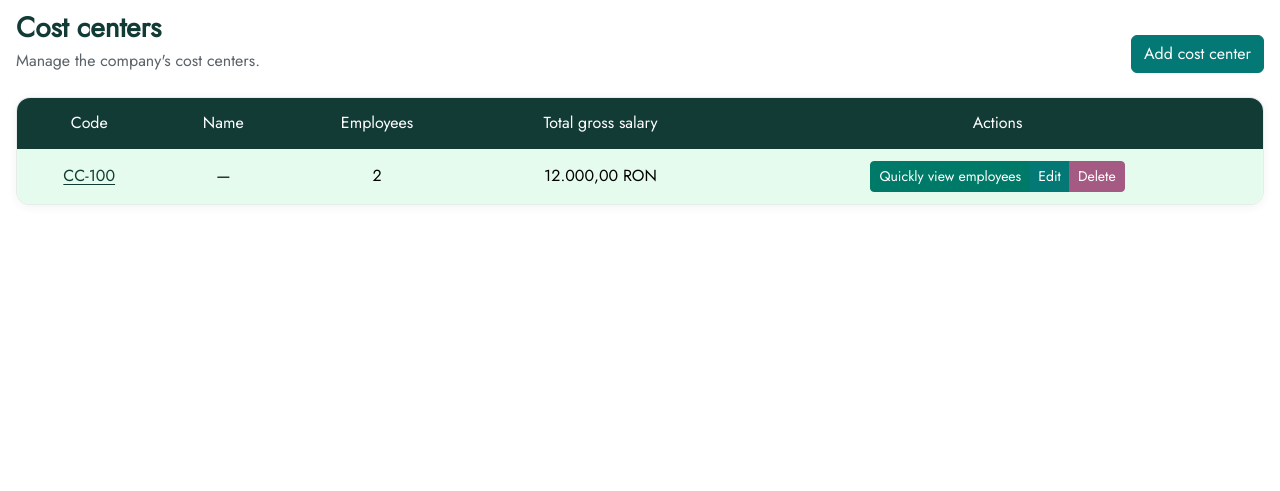
CostCentersComponent › template › shows the error under the code and does not save a blank cost center
Click the button "Add cost center" at (1198, 54), box x1=1131 y1=35 x2=1264 y2=73
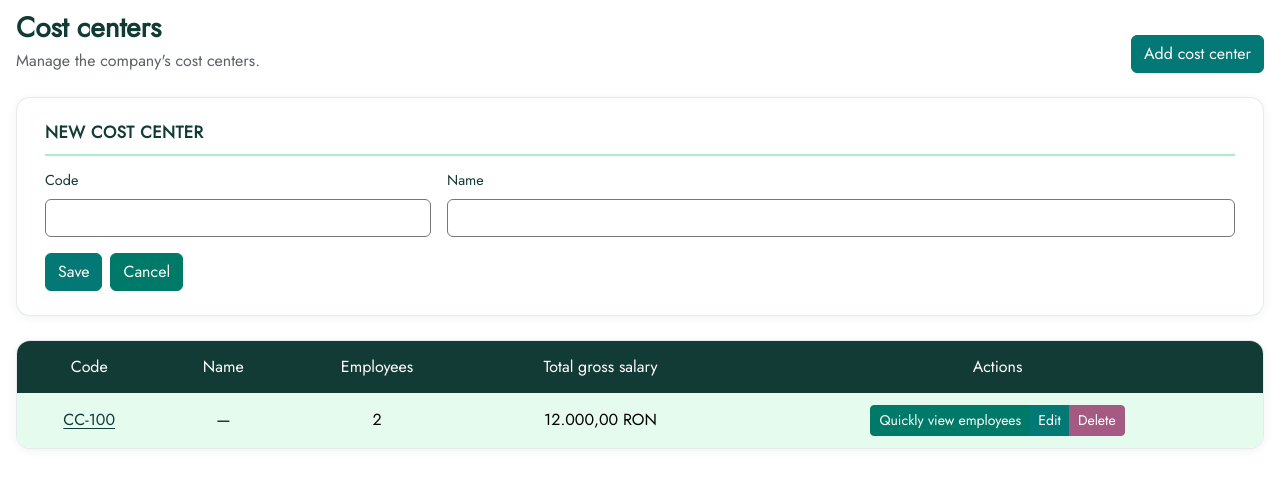
Click the button "Save" at (74, 272), box x1=45 y1=253 x2=102 y2=291
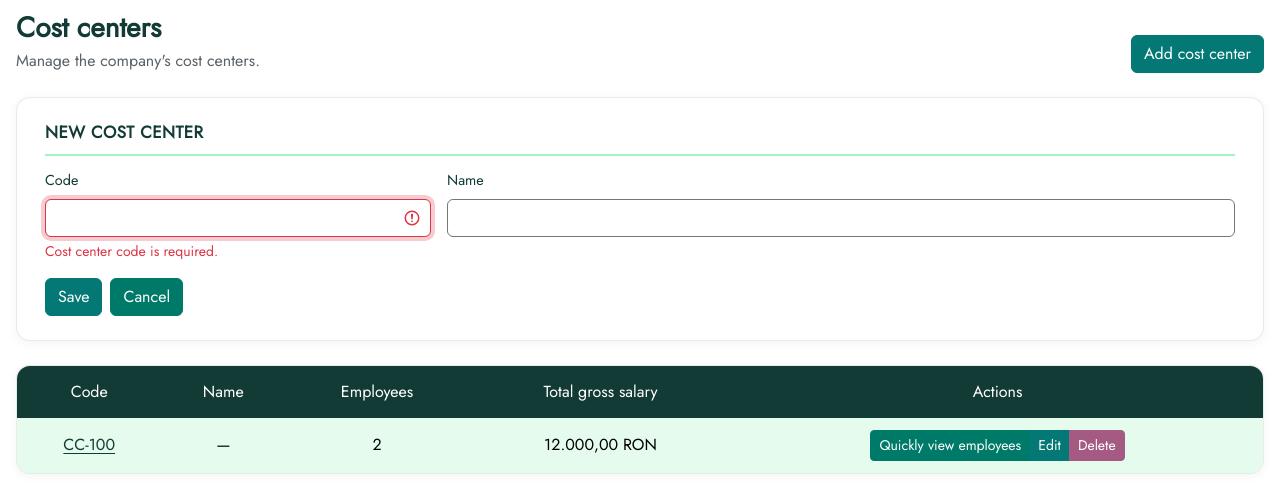
Check: the text with id "code-error" reads "Cost center code is required.", box x1=45 y1=241 x2=218 y2=261
